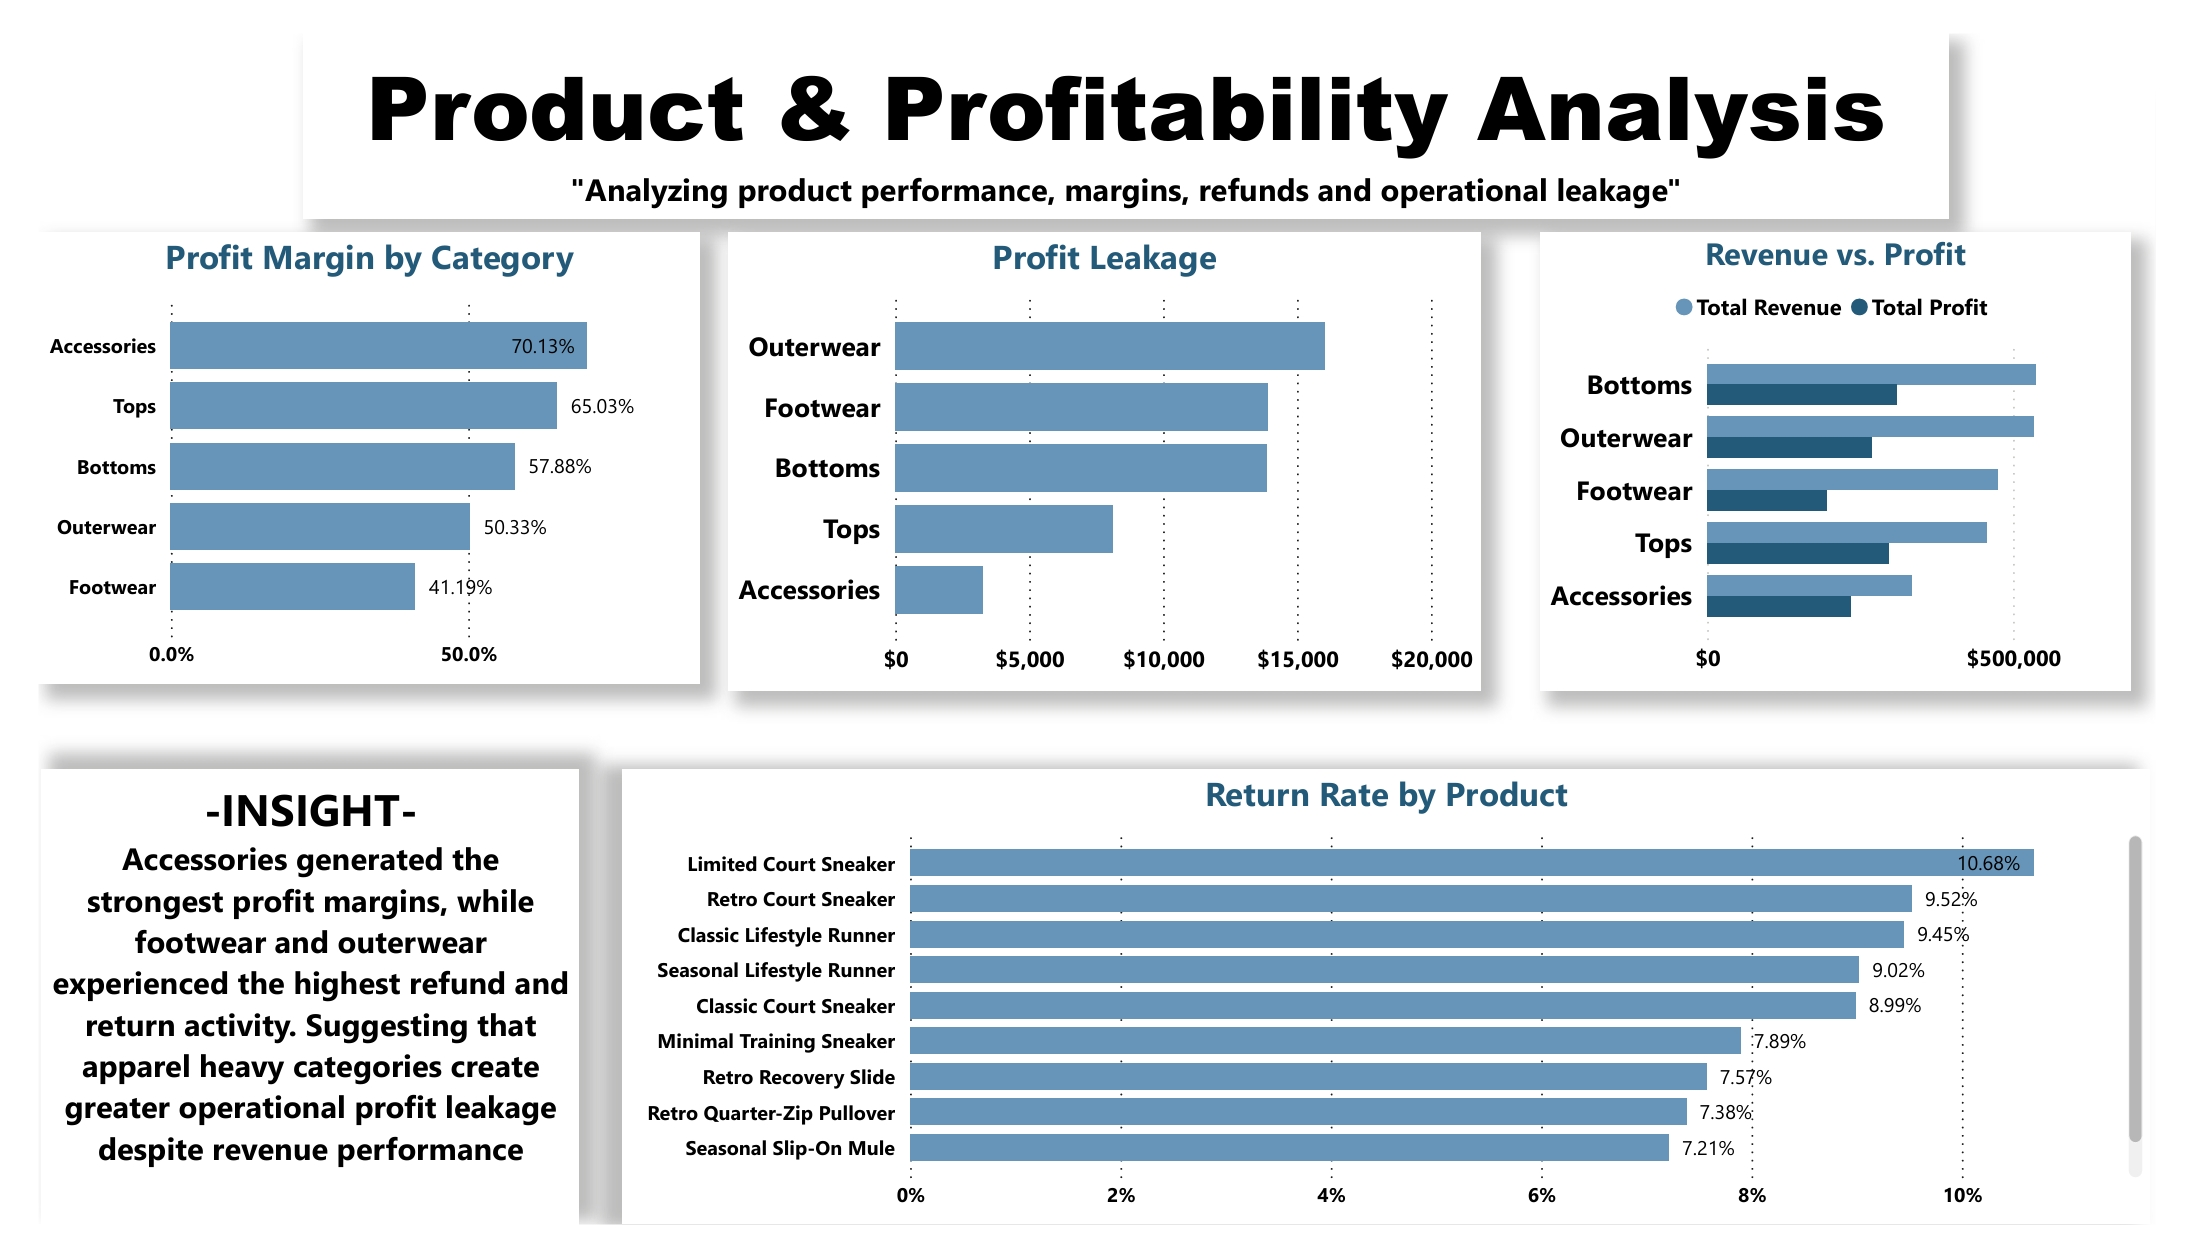

The page's visual inventory and layout, read from the dashboard file:
{"tool":"powerbi","page":{"name":"Product & Profitability Analysis","canvas":[1280,720],"ordinal":2},"visuals":[{"type":"textbox","box":[160,0,995,111.7],"z":0},{"type":"clusteredBarChart","title":"Profit Margin by Category","fields":{"Y":["KPI_Measures.Profit Margin %"],"Category":["products.category"]},"box":[0,120,400,273.3],"z":1000},{"type":"clusteredBarChart","title":"Profit Leakage","fields":{"Category":["products.category"],"Y":["KPI_Measures.Profit Leakage"]},"box":[416.7,120,455,276.7],"z":2000},{"type":"clusteredBarChart","title":"Return Rate by Product","fields":{"Category":["products.product_name"],"Y":["KPI_Measures.Return Rate %"]},"box":[353.3,445,923.3,275],"z":3000},{"type":"textbox","box":[1.7,445,325,276.7],"z":4000},{"type":"clusteredBarChart","title":"Revenue vs. Profit","fields":{"Category":["products.category"],"Y":["KPI_Measures.Total Revenue","KPI_Measures.Total Profit"]},"box":[908.3,120,356.7,276.7],"z":5000}]}

Visuals, with their boxes in screenshot pixels (x1, y1, x2, y2), scaled from the page's 1280x720 canvas onto the 2192x1259 screenshot:
textbox: 274, 0, 1978, 195
"Profit Margin by Category" clusteredBarChart: 0, 210, 685, 688
"Profit Leakage" clusteredBarChart: 714, 210, 1493, 694
"Return Rate by Product" clusteredBarChart: 605, 778, 2186, 1258
textbox: 3, 778, 559, 1258
"Revenue vs. Profit" clusteredBarChart: 1555, 210, 2166, 694
